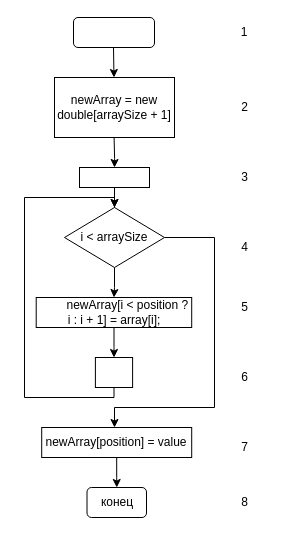
This 292x535 diagram has some shape labels left out. Here are the shapes that lost their labels. From the top down, the centre of each, then its label:
the point at 113,32: insert начало
the point at 114,177: i = 0
the point at 113,372: i++
